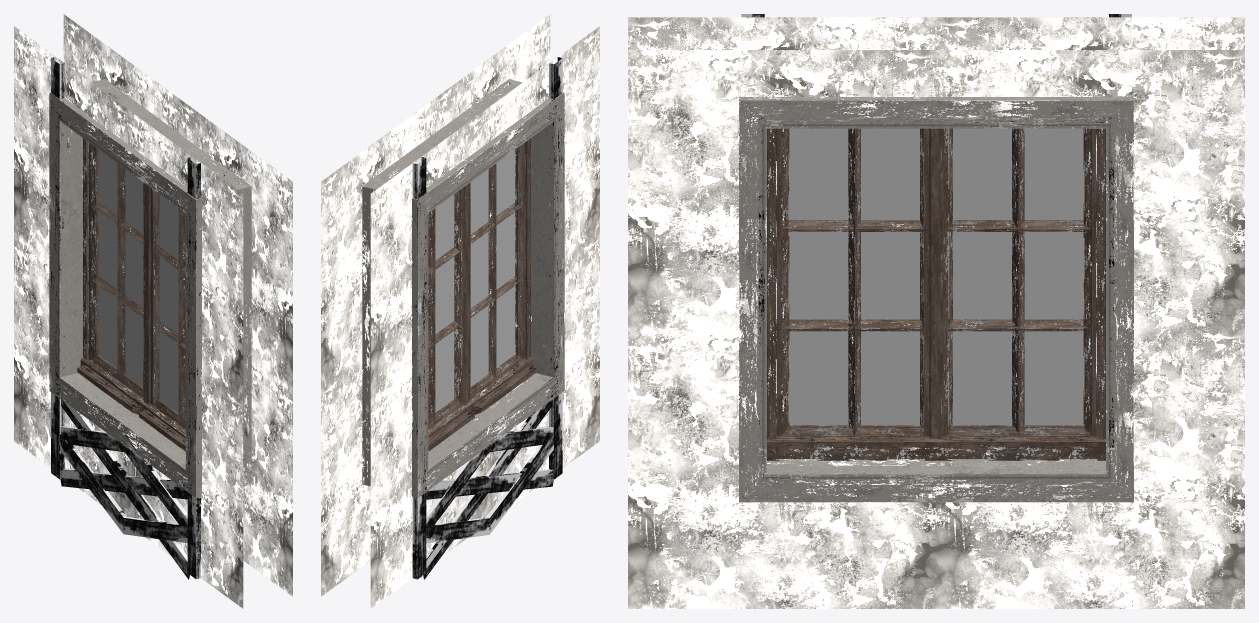
File: SM_wall_A_window_4x4_04_01.fbx
3 views of the same model, side by side, from view 1: azimuth 30°, elevation 25°; view 2: azimuth 150°, elevation 25°; view 3: azimuth 270°, elevation 25° (orthographic). The views are drawn at different scales.
Parts seen in each view (by area): view 1: SM_wall_A_window_4x4_04_01_LOD0; view 2: SM_wall_A_window_4x4_04_01_LOD0; view 3: SM_wall_A_window_4x4_04_01_LOD0.
Part boxes in pixels (x1,y1,x2,y2): SM_wall_A_window_4x4_04_01_LOD0: [14, 14, 292, 608]; SM_wall_A_window_4x4_04_01_LOD0: [321, 14, 599, 608]; SM_wall_A_window_4x4_04_01_LOD0: [628, 14, 1244, 608].
Bounding box in the file's own units: 62.17 × 400 × 408.
Materials: 6 (5 with a texture image).
